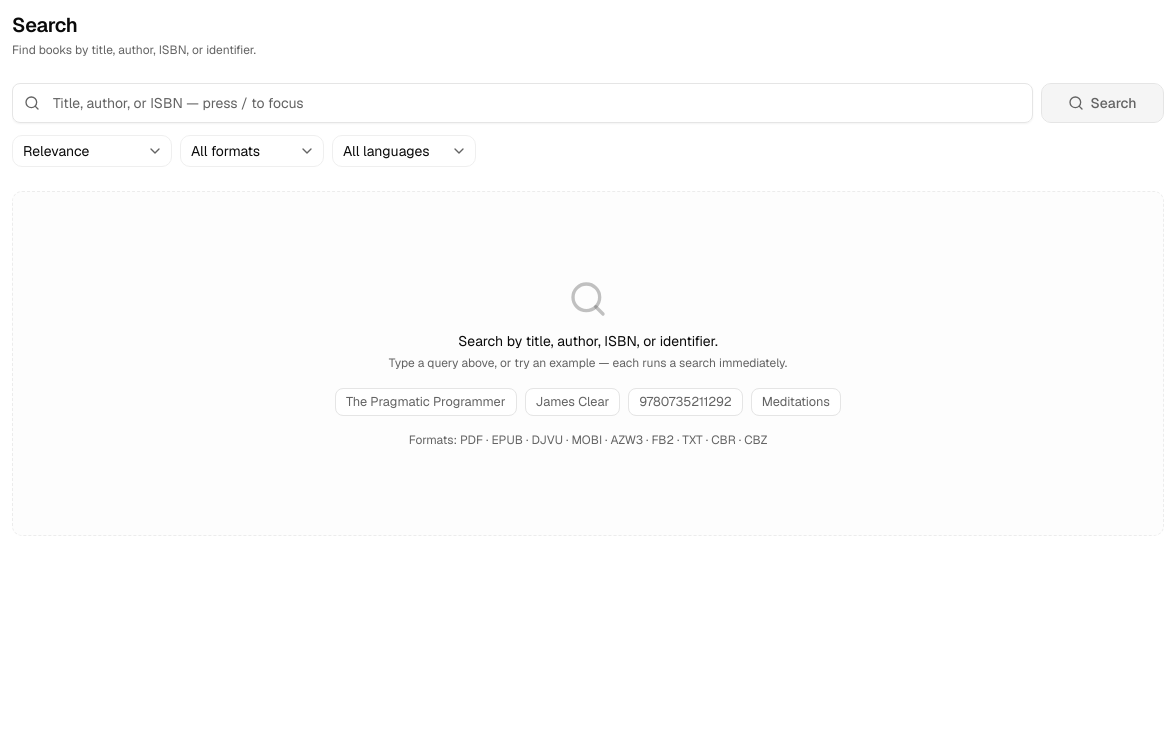
Test: Search authoritative sort and facets (#61) › defaults to relevance (no sort param) on first search
The width and height of the screenshot is (1176, 732).
Type "habits" into the field named "Search query". click: {"x": 522, "y": 103}
box: [12,83,1033,123]
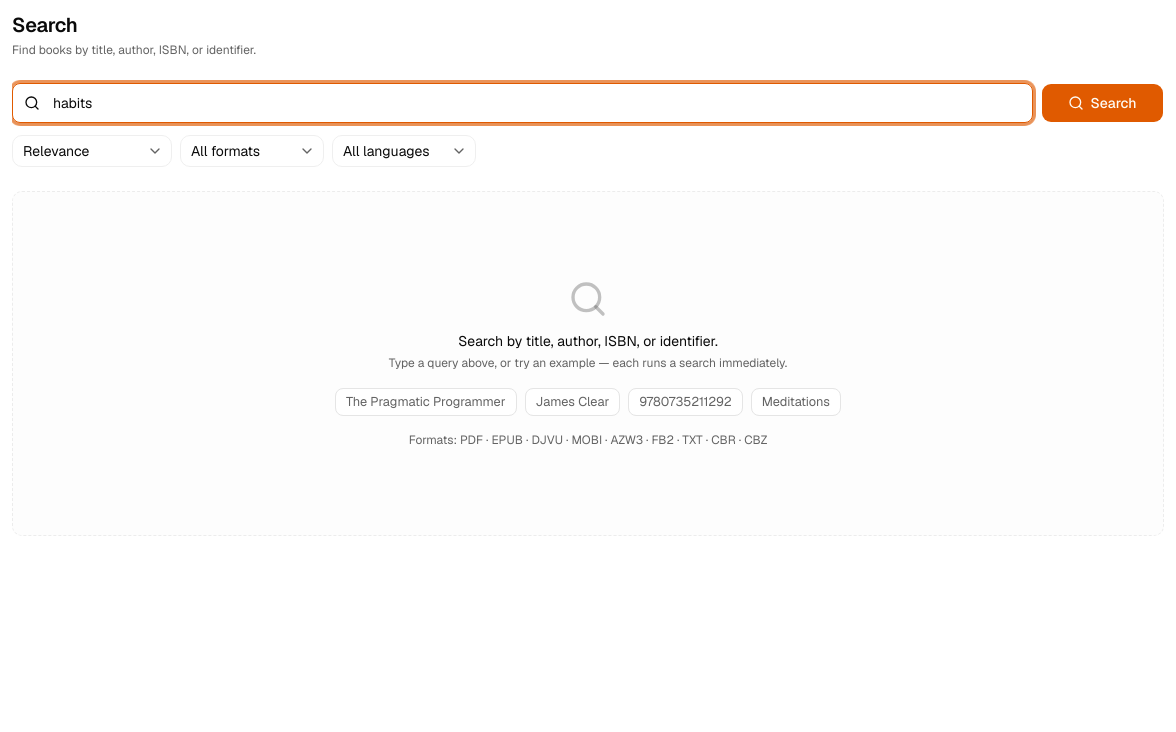
Click the button "Search". click: {"x": 1102, "y": 103}
box: [1041,83,1164,123]
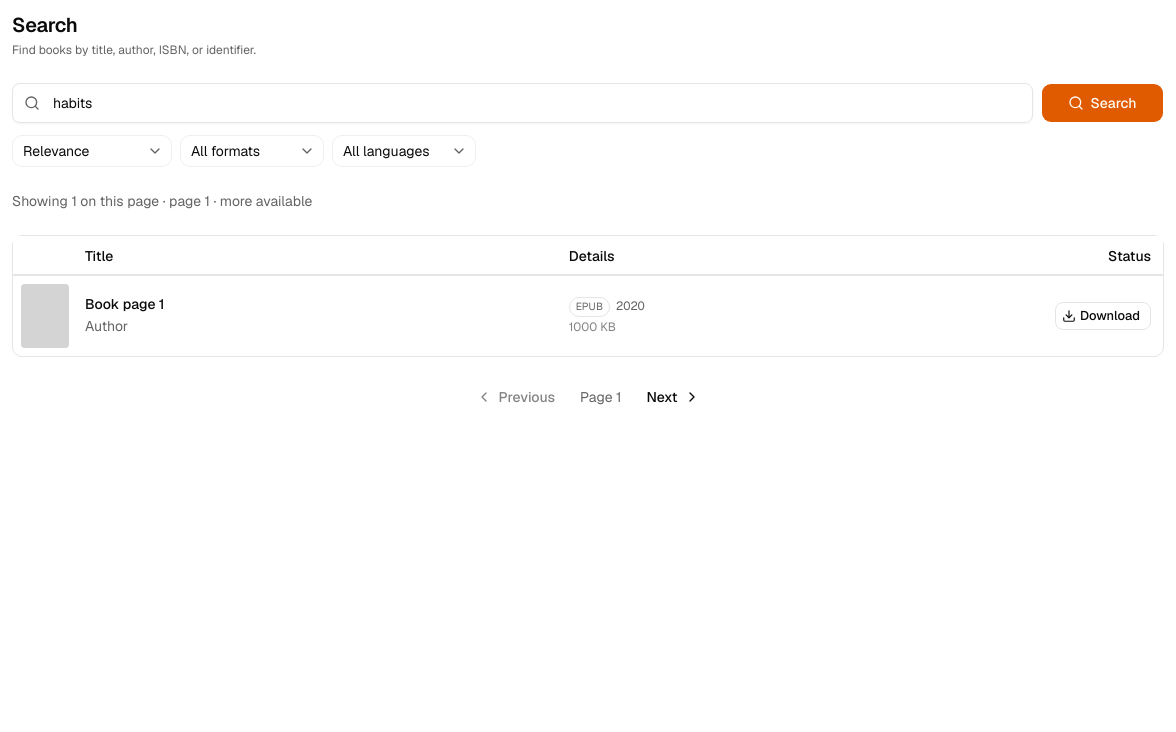
Result: the text "Book page 1" is shown at [85,295,164,313]
